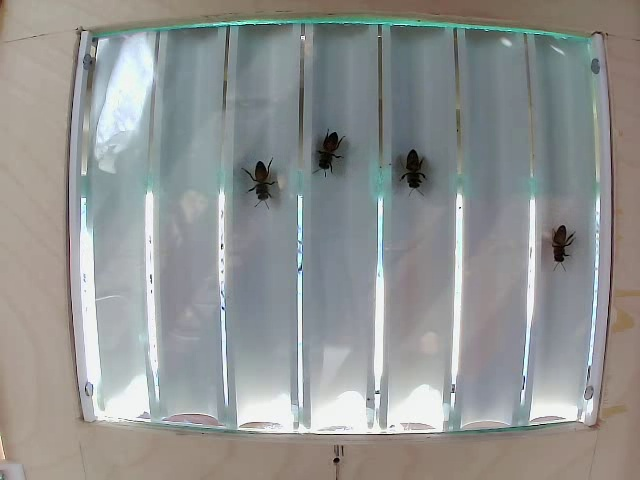bee: (239, 156, 281, 209), (539, 208, 578, 261), (307, 129, 351, 174), (398, 147, 434, 191)
